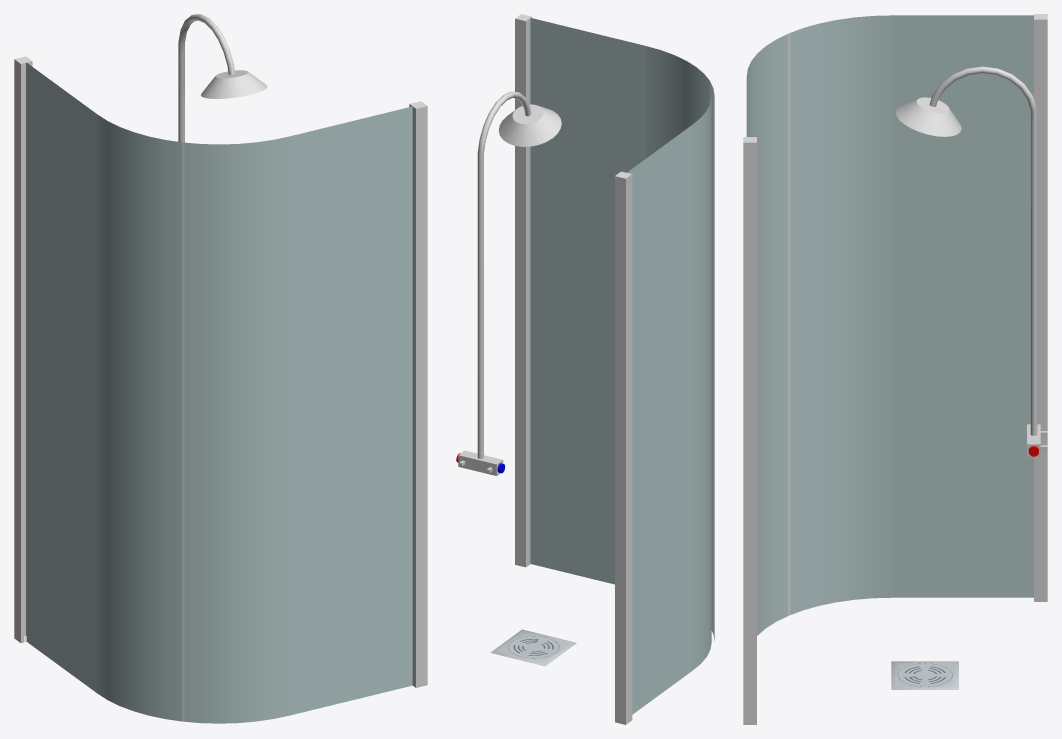
File: shower_cabin.glb
3 renders of one model, left to right at view 1: azimuth 30°, elevation 25°; view 2: azimuth 150°, elevation 25°; view 3: azimuth 270°, elevation 25°, orthographic. The views are drawn at different scales.
Size of the model in its own units: 90 by 199 by 90.
